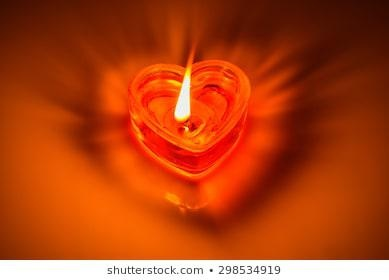fire: (173, 63, 194, 123)
